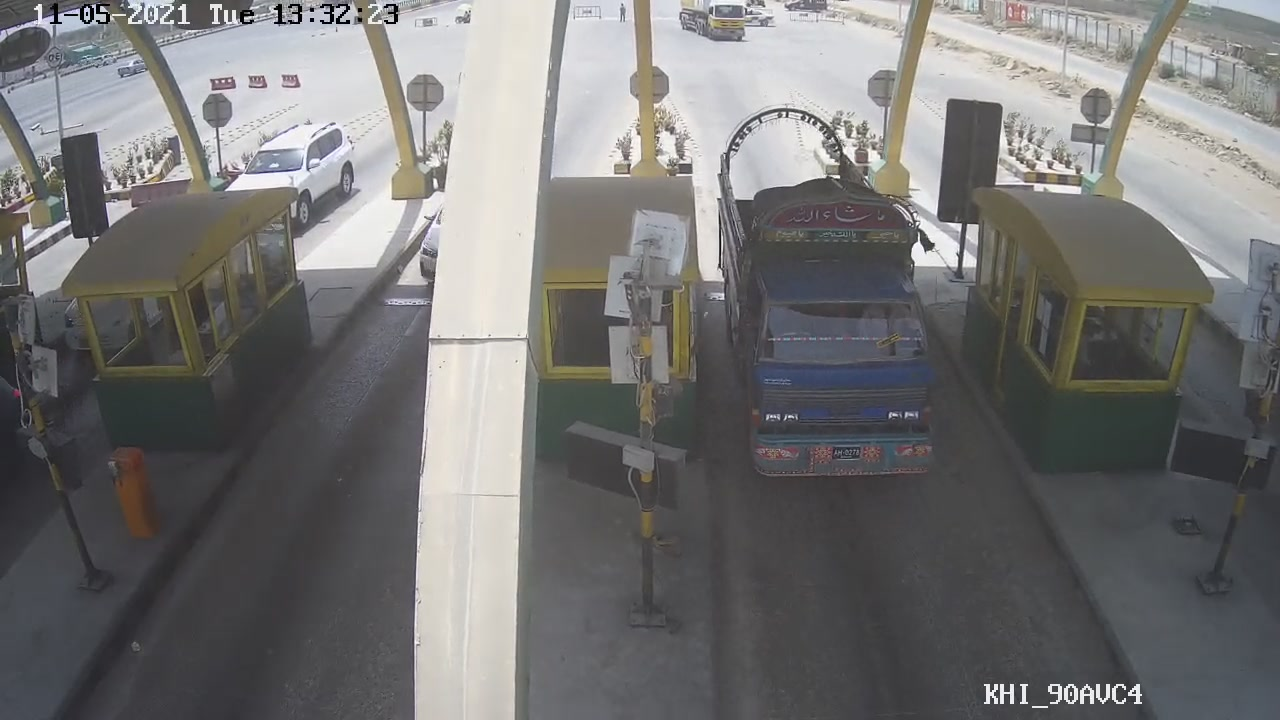F5: (714, 103, 943, 494)
